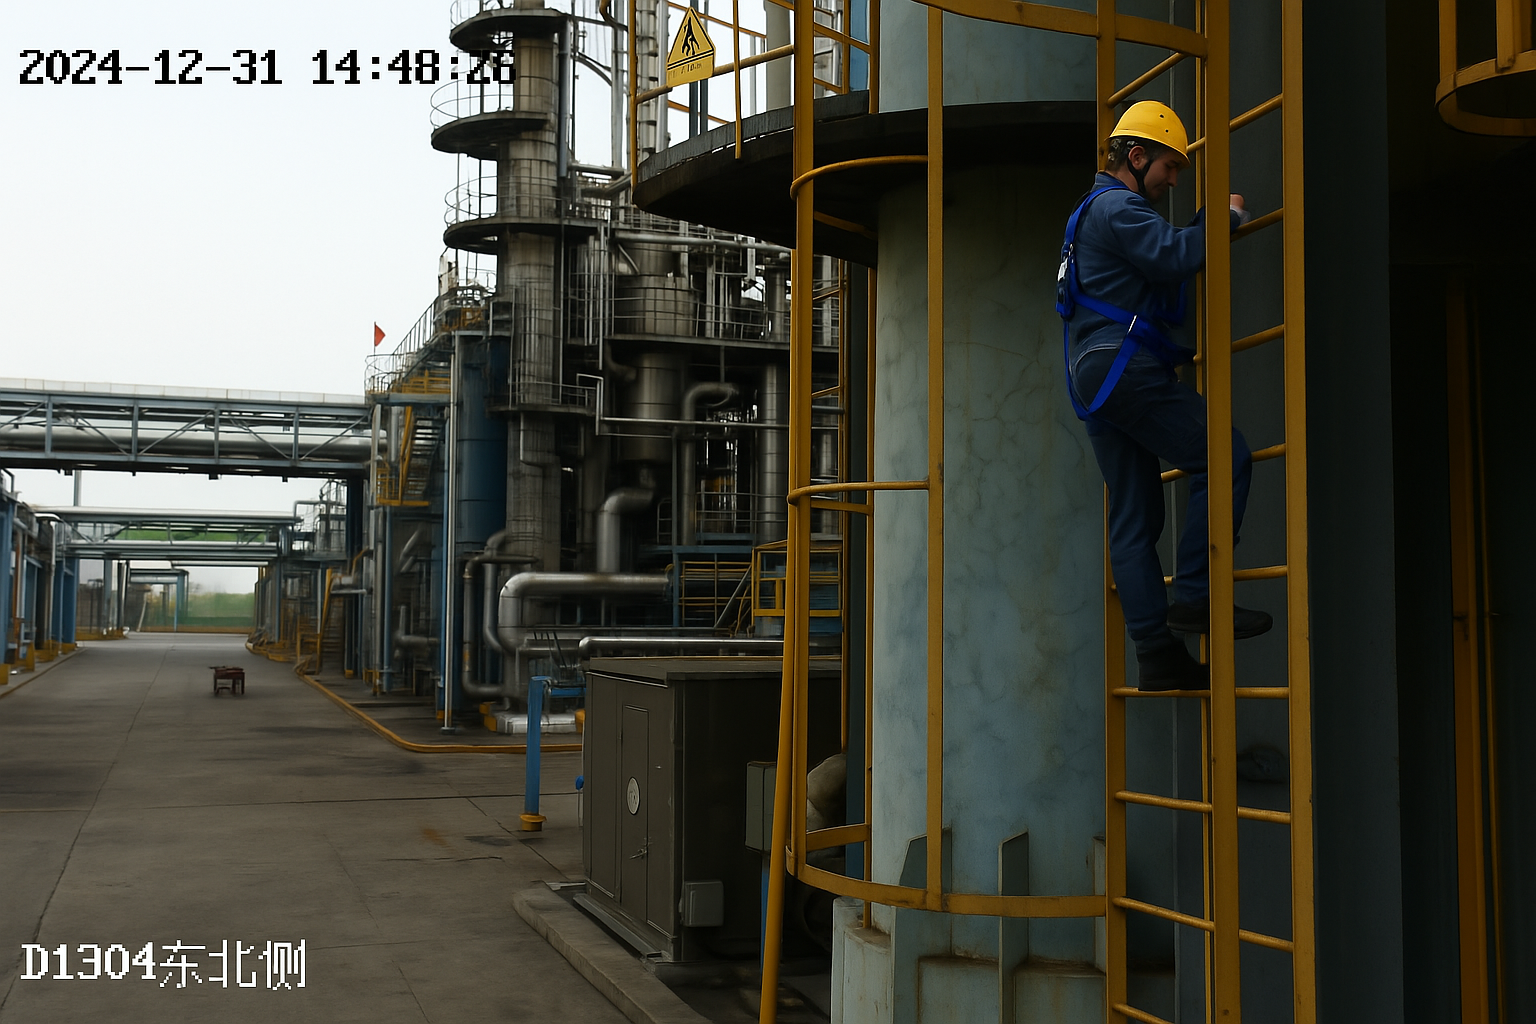safety_belt: (1046, 172, 1194, 434)
